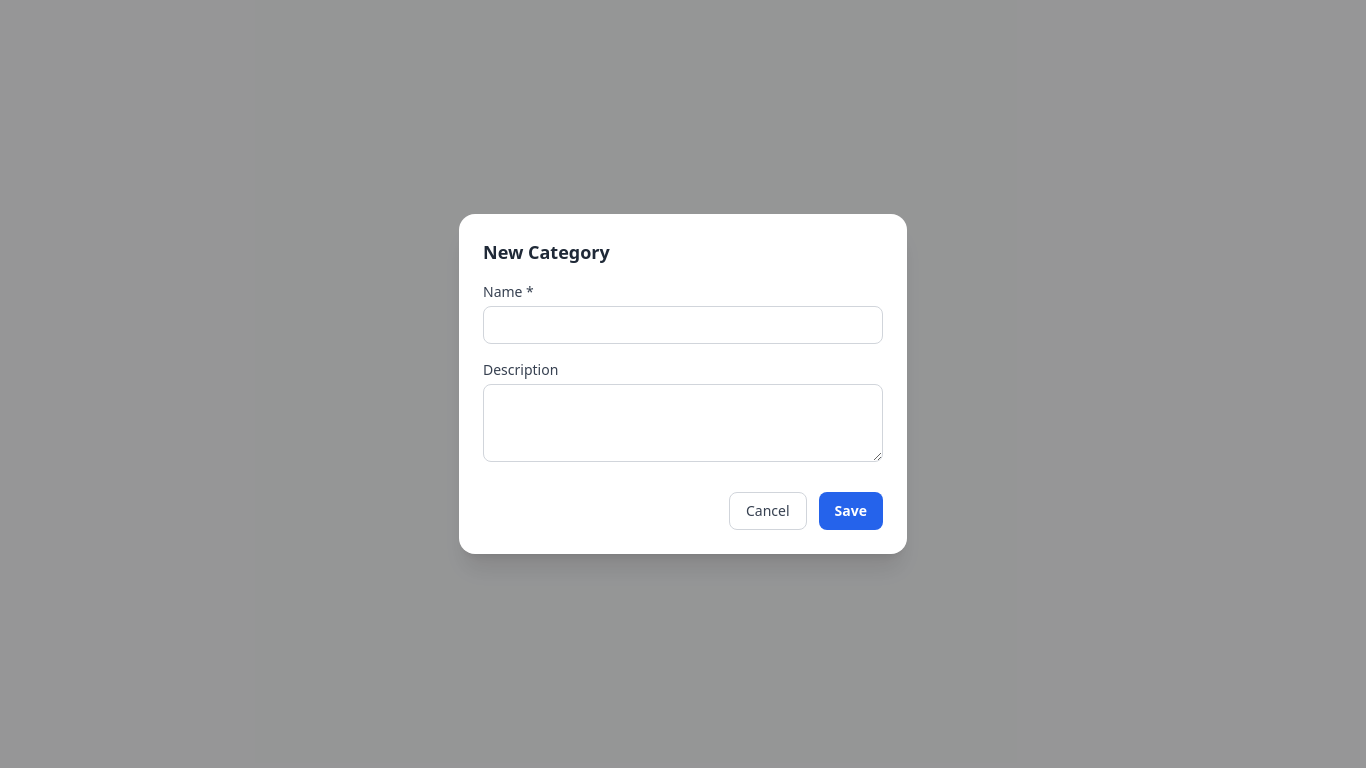
CategoryForm Validation › shows error for empty name on submit
Click the button "Save" at (851, 511), box [819,492,883,530]
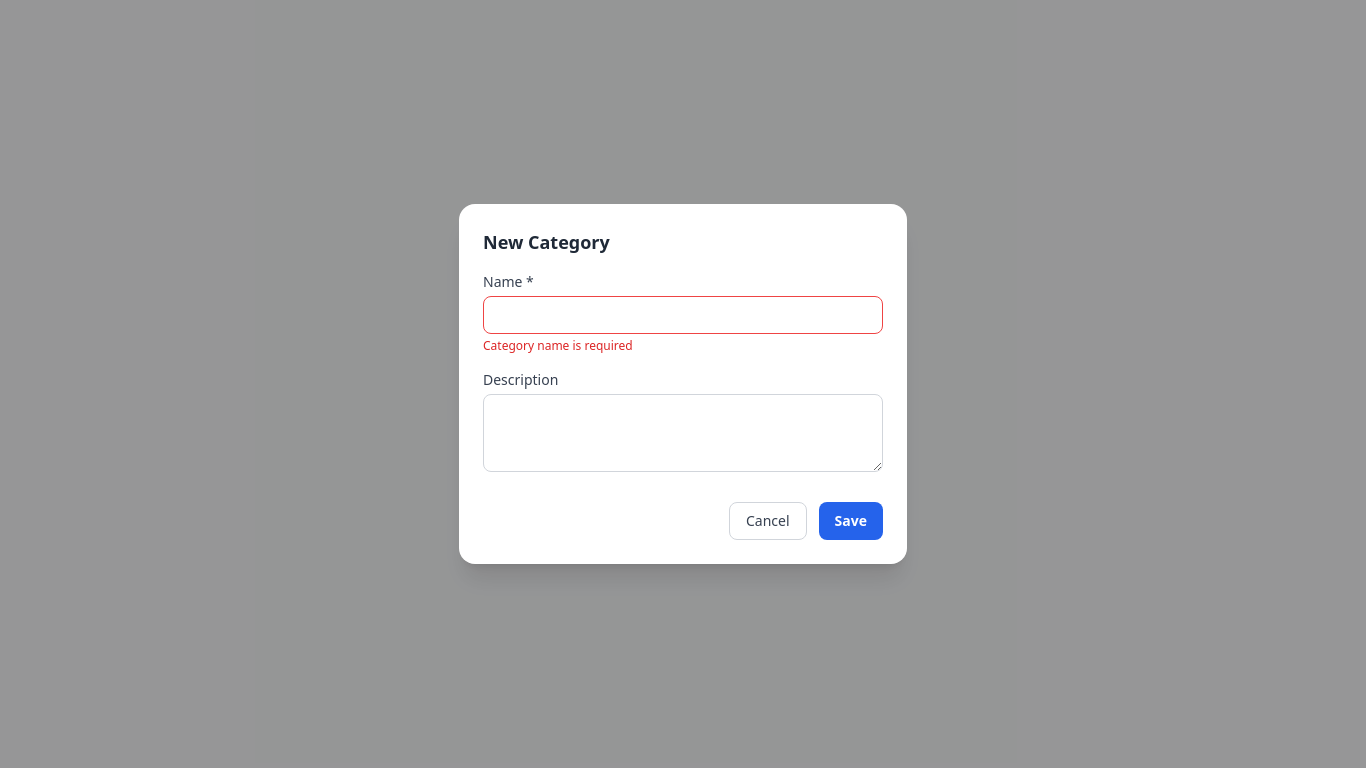
expect the text "Category name is required" is shown: met, box [483,337,633,354]
